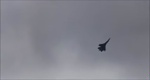maybay_muctieu: (98, 37, 110, 55)
